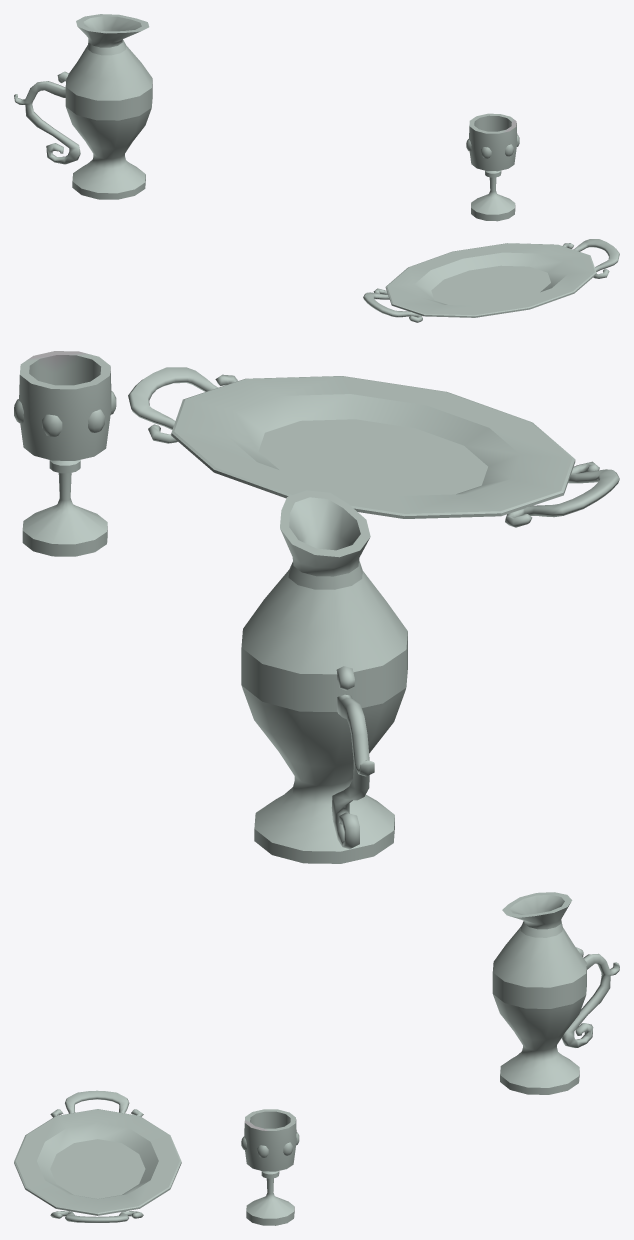
Rendered from CoffeeTablePlates.fbx.
The picture shows the model from 3 angles, top to bottom: view 1: azimuth 30°, elevation 25°; view 2: azimuth 150°, elevation 25°; view 3: azimuth 270°, elevation 25°; orthographic projection. The views are drawn at different scales.
Visible parts, largest first — view 1: plate; view 2: plate; view 3: plate.
Boxes of the visible parts, x1=… form: plate: x1=14, y1=14, x2=619, y2=322; plate: x1=14, y1=351, x2=619, y2=863; plate: x1=14, y1=892, x2=619, y2=1225.
Size of the model in its own units: 640 by 276 by 860.
